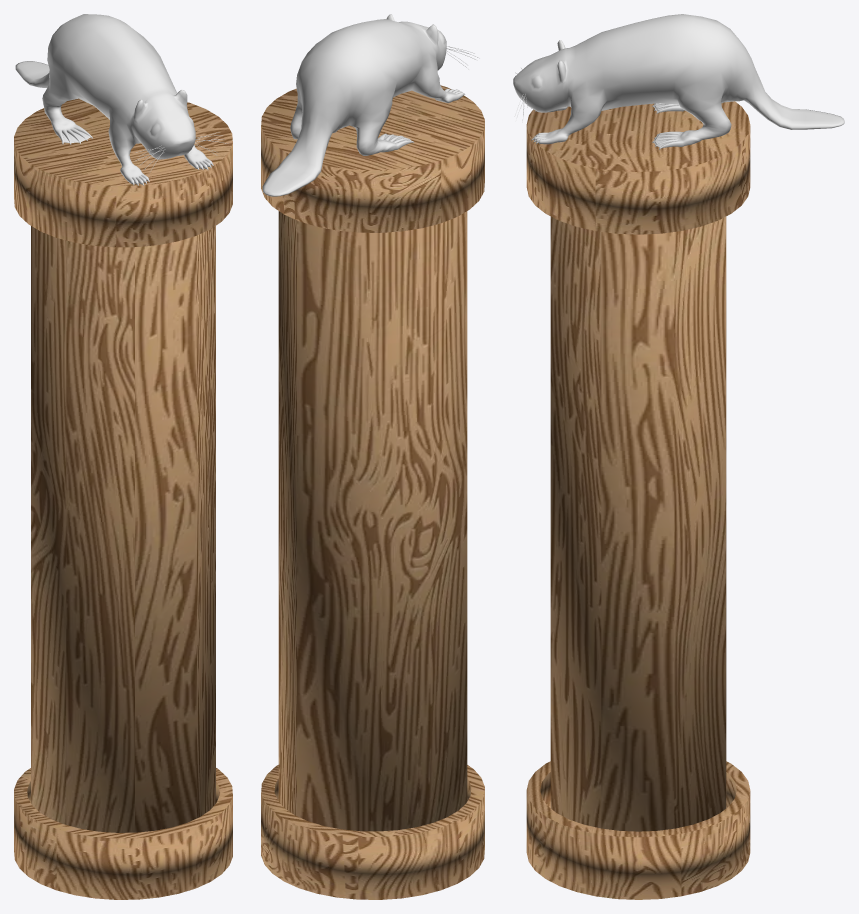
Rendered from fence_divider_general (1).fbx.
The picture shows the model from 3 angles, left to right: view 1: azimuth 30°, elevation 25°; view 2: azimuth 150°, elevation 25°; view 3: azimuth 270°, elevation 25°; orthographic projection. The views are drawn at different scales.
Visible parts, largest first — view 1: Pole, Top Piece, Beaver, Bot Piece; view 2: Pole, Top Piece, Beaver, Bot Piece; view 3: Pole, Top Piece, Beaver, Bot Piece.
Boxes of the visible parts, <box> form: Pole: <box>31,226,215,832</box>; Top Piece: <box>14,98,232,247</box>; Beaver: <box>15,14,228,185</box>; Bot Piece: <box>14,768,232,899</box>; Pole: <box>278,211,467,831</box>; Top Piece: <box>261,85,484,232</box>; Beaver: <box>262,14,479,196</box>; Bot Piece: <box>261,765,484,899</box>; Pole: <box>550,216,726,831</box>; Top Piece: <box>526,101,750,234</box>; Beaver: <box>513,14,844,149</box>; Bot Piece: <box>526,761,750,899</box>.
Bounding box in the file's own units: 95.82 × 394 × 142.
Materials: 2 (1 with a texture image).
